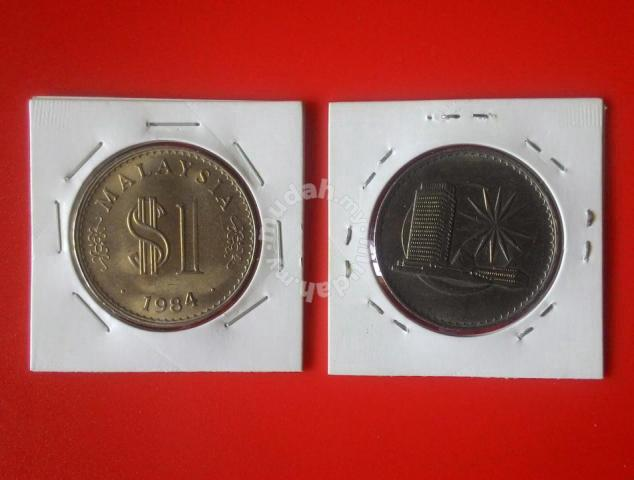1r: (71, 141, 258, 330)
